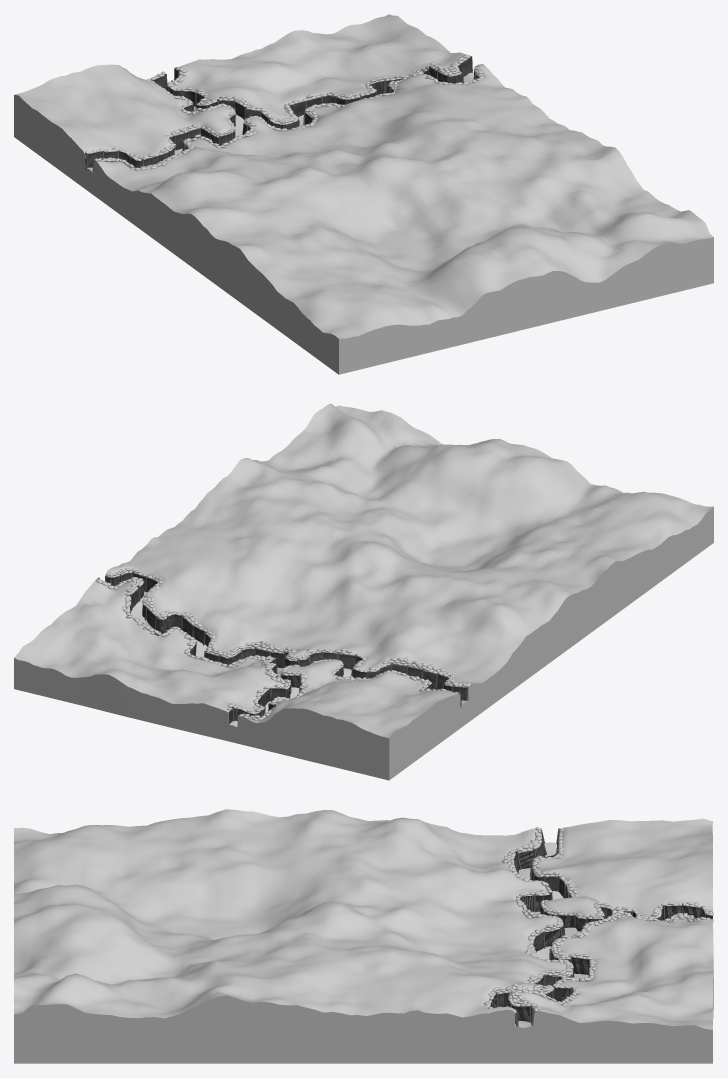
File: MudTrenche1xwreinforcements.fbx
3 renders of one model, top to bottom at view 1: azimuth 30°, elevation 25°; view 2: azimuth 150°, elevation 25°; view 3: azimuth 270°, elevation 25°, orthographic. The views are drawn at different scales.
Parts seen in each view (by area): view 1: Landscape.002, Cube.1175; view 2: Landscape.002, Cube.1175; view 3: Landscape.002, Cube.1175.
Part boxes in pixels (left/top/right/bottom): Landscape.002: left=14, top=14, right=713, bottom=374; Cube.1175: left=85, top=55, right=483, bottom=171; Landscape.002: left=14, top=403, right=713, bottom=780; Cube.1175: left=96, top=568, right=471, bottom=727; Landscape.002: left=14, top=809, right=713, bottom=1063; Cube.1175: left=484, top=827, right=713, bottom=1026.
Bounding box in the file's own units: 4801 × 778 × 7211.
